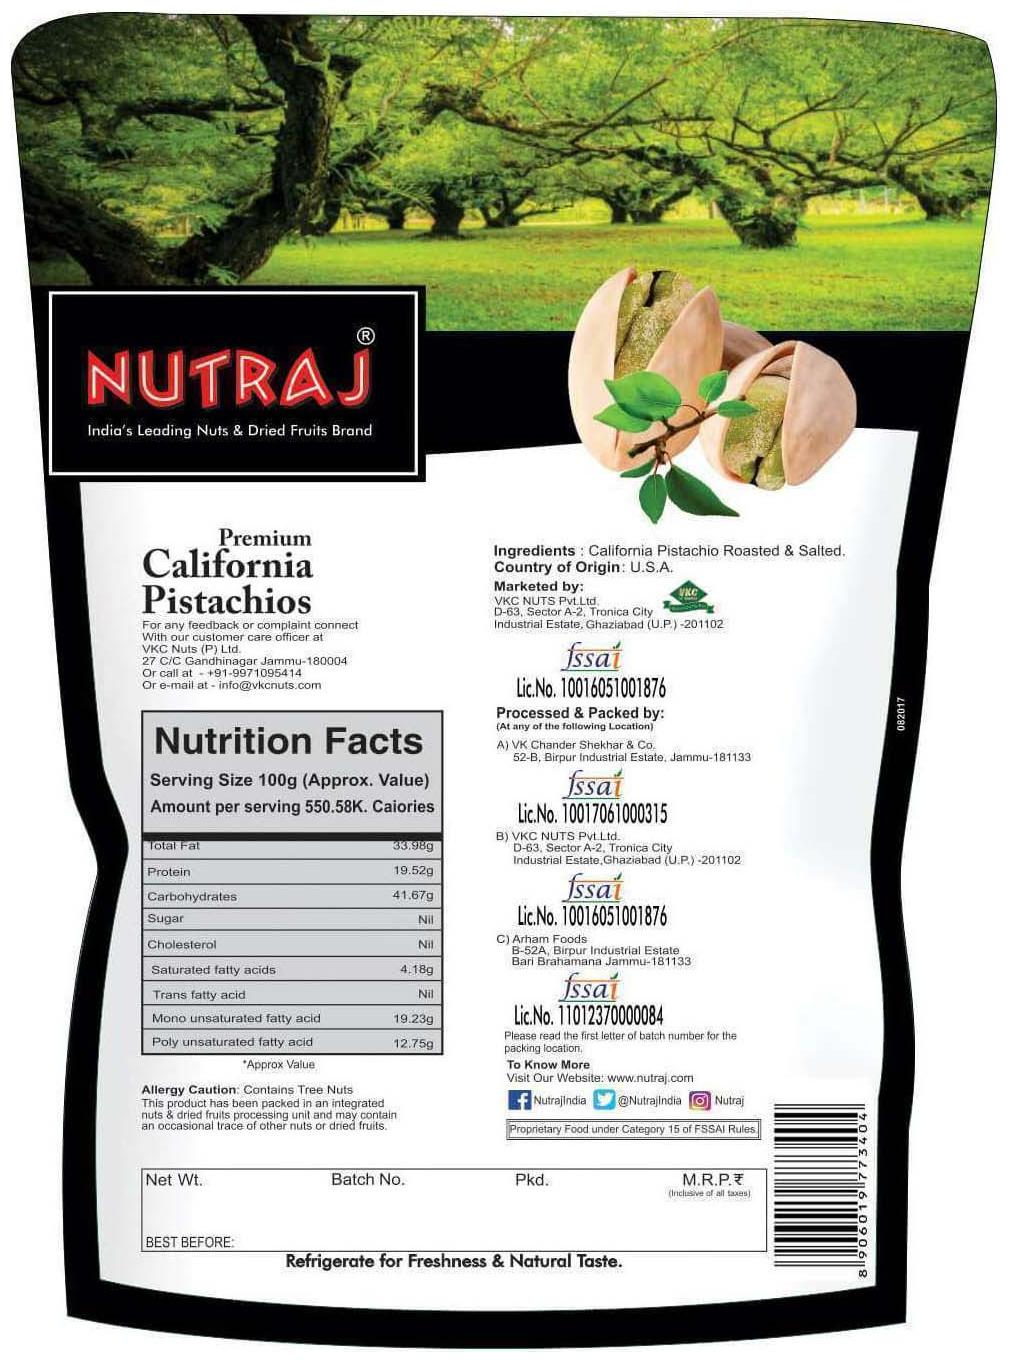fssai: (559, 640, 624, 673), (557, 970, 621, 1002), (560, 768, 625, 800), (560, 871, 625, 903)
